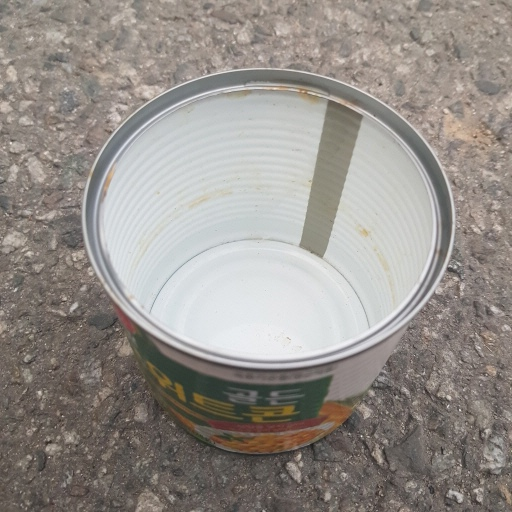Metal_1: (82, 64, 458, 455)
